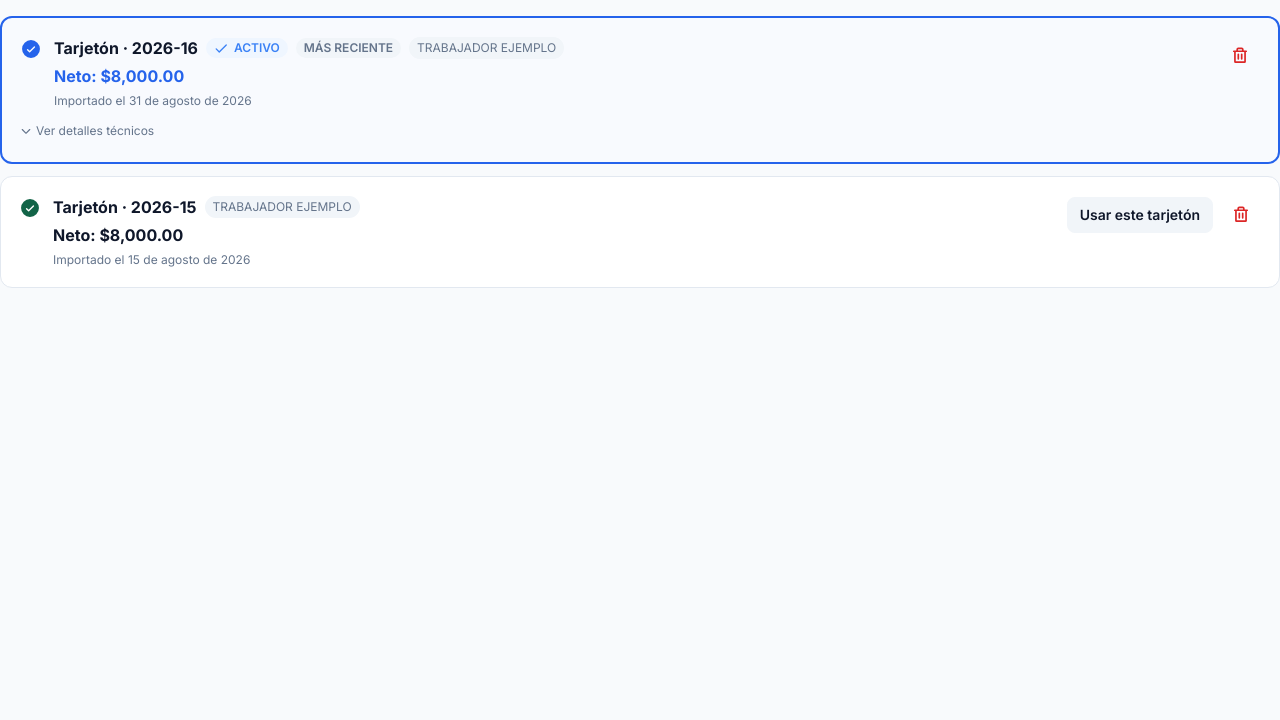
TarjetonHistorySection - Borrado y Selección Activa Desconocida › muestra el aviso de borrado exitoso con selección activa desconocida, sin convertirla a AUTO_LATEST por defecto
Expected: the text "ACTIVO" is shown, x1=206 y1=38 x2=288 y2=58
# Abrimos el modal de confirmación de eliminación para payslip-1
Click the button named "Eliminar tarjetón" in the row of "MÁS RECIENTE" at x=1240, y=56, box x1=1220 y1=36 x2=1260 y2=76
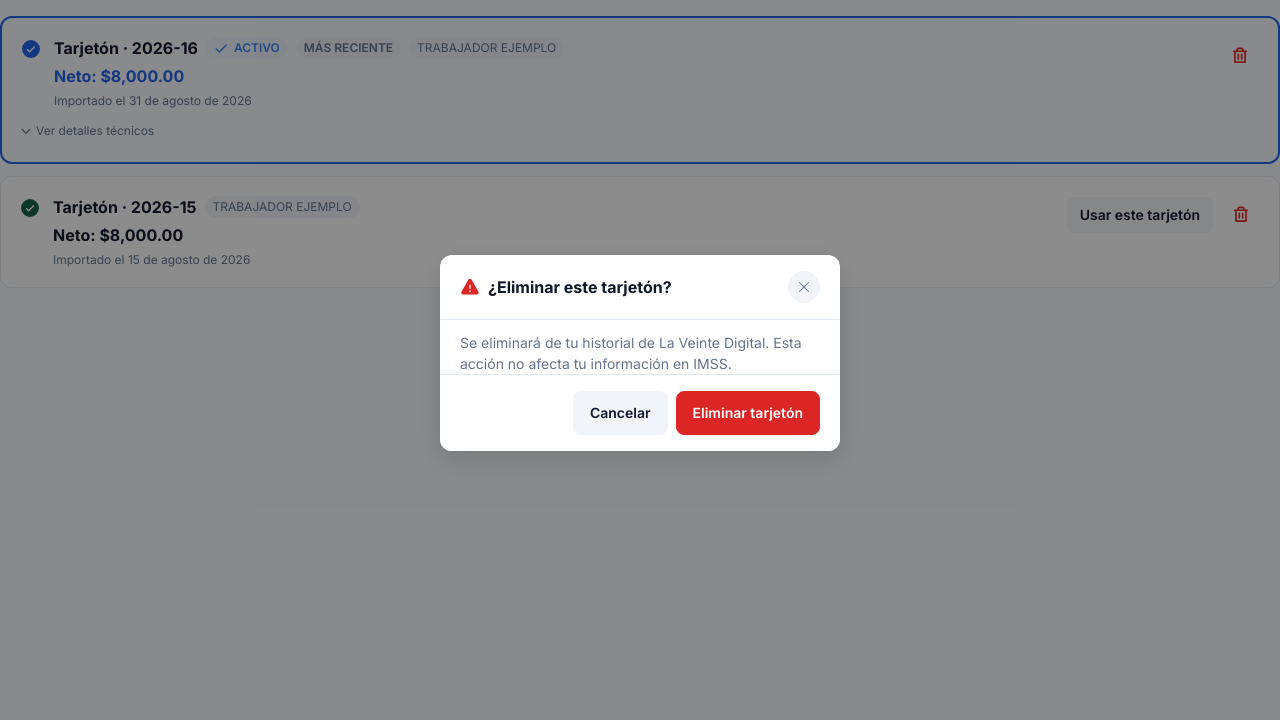
# Confirmamos la eliminación en el diálogo de confirmación
Click the button "Eliminar tarjetón" at x=748, y=413, box x1=676 y1=391 x2=820 y2=435
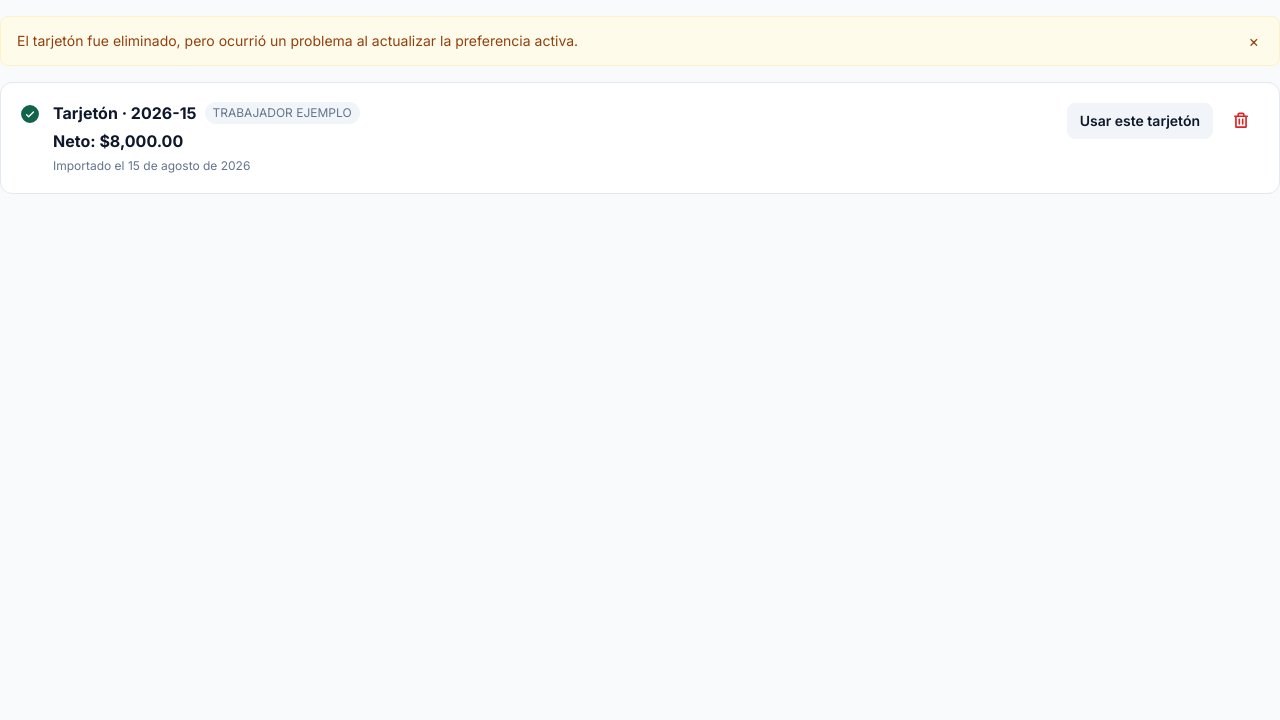
Expected: the message is shown, x1=0 y1=16 x2=1279 y2=66
Expected: the message shows "El tarjetón fue eliminado, pero ocurrió un problema al actualizar la preferencia activa.", x1=17 y1=32 x2=578 y2=49
Expected: the element with test id "tarjeton-card-payslip-1" is gone
